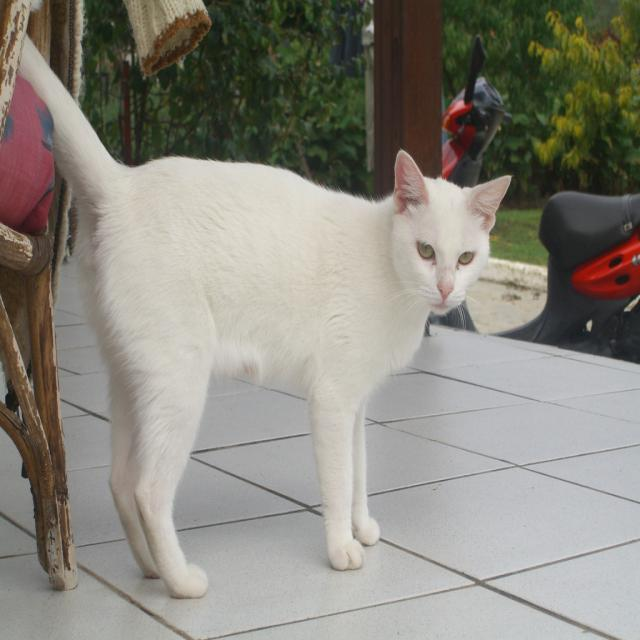cat: (85, 152, 510, 573)
